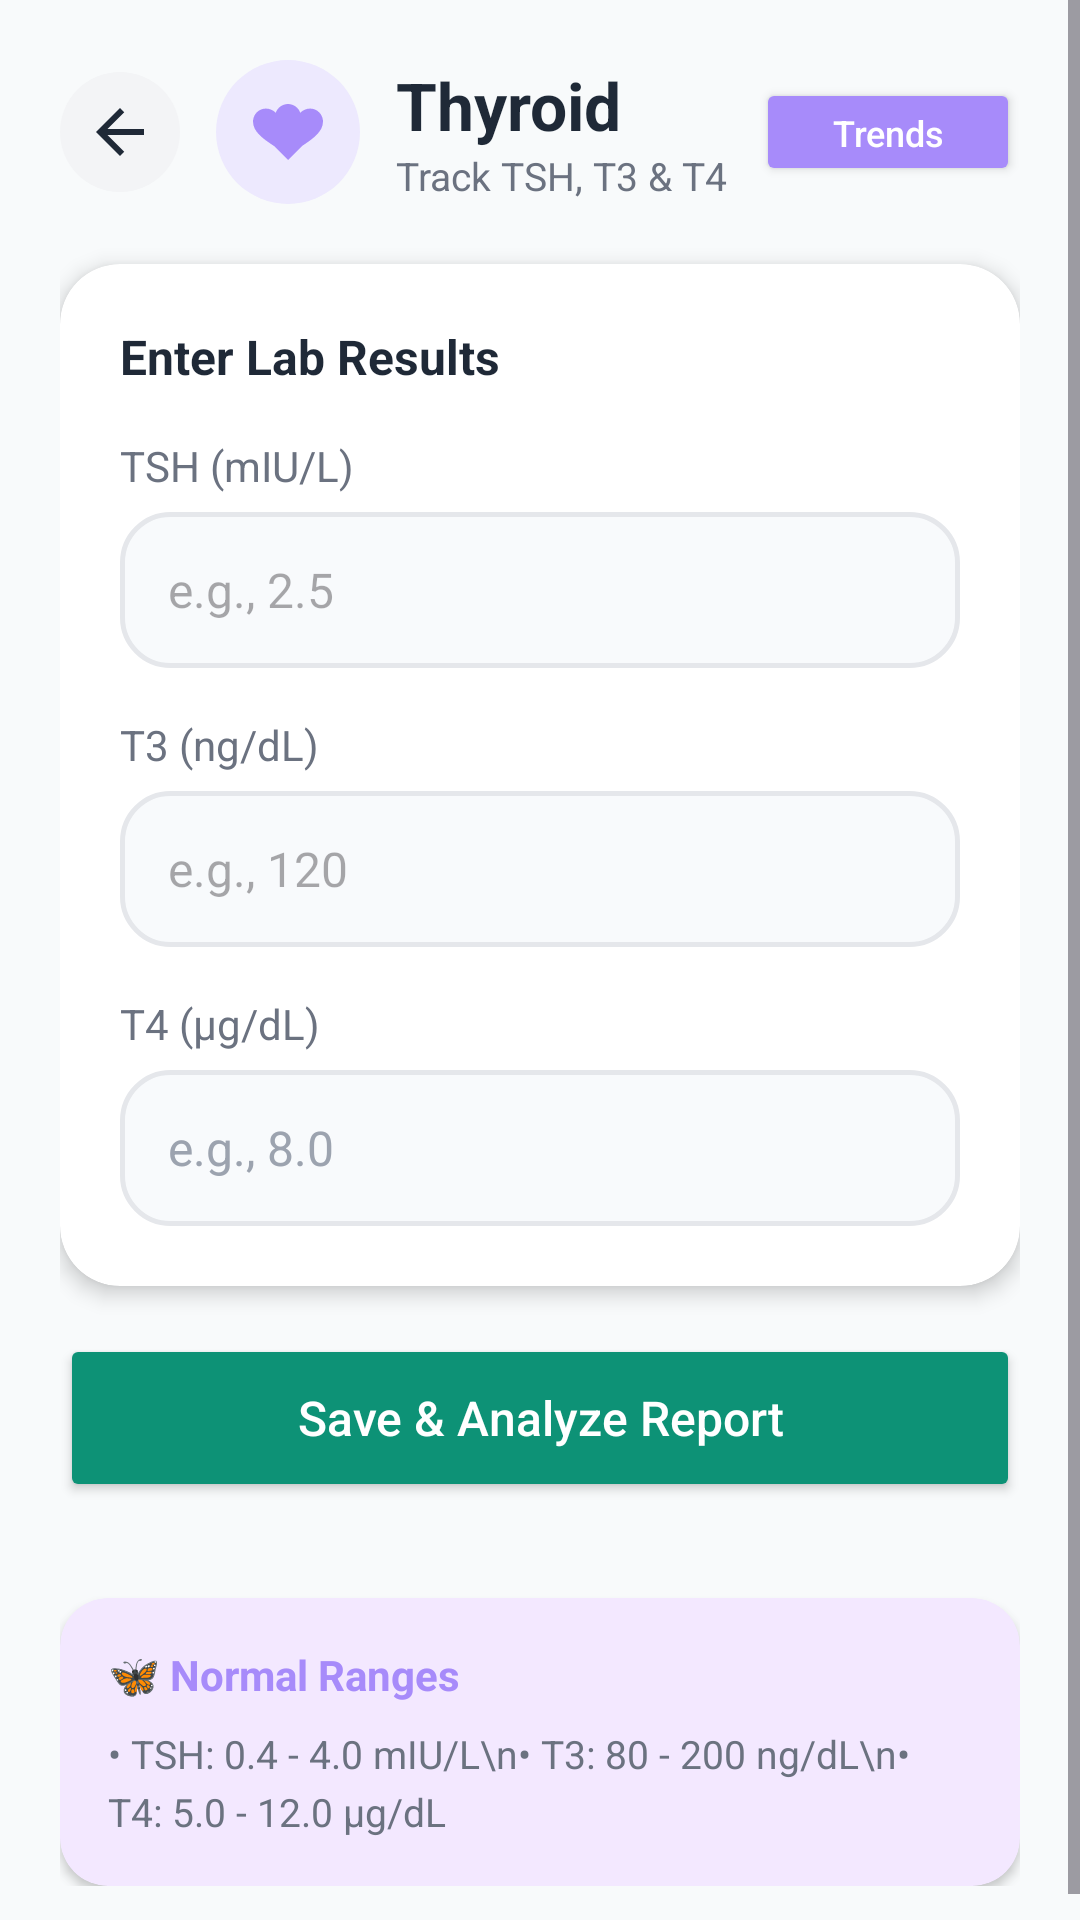

Named icons in this screenshot (1080 x 1920) and their centers, [x,y]:
Back: [120,132]
